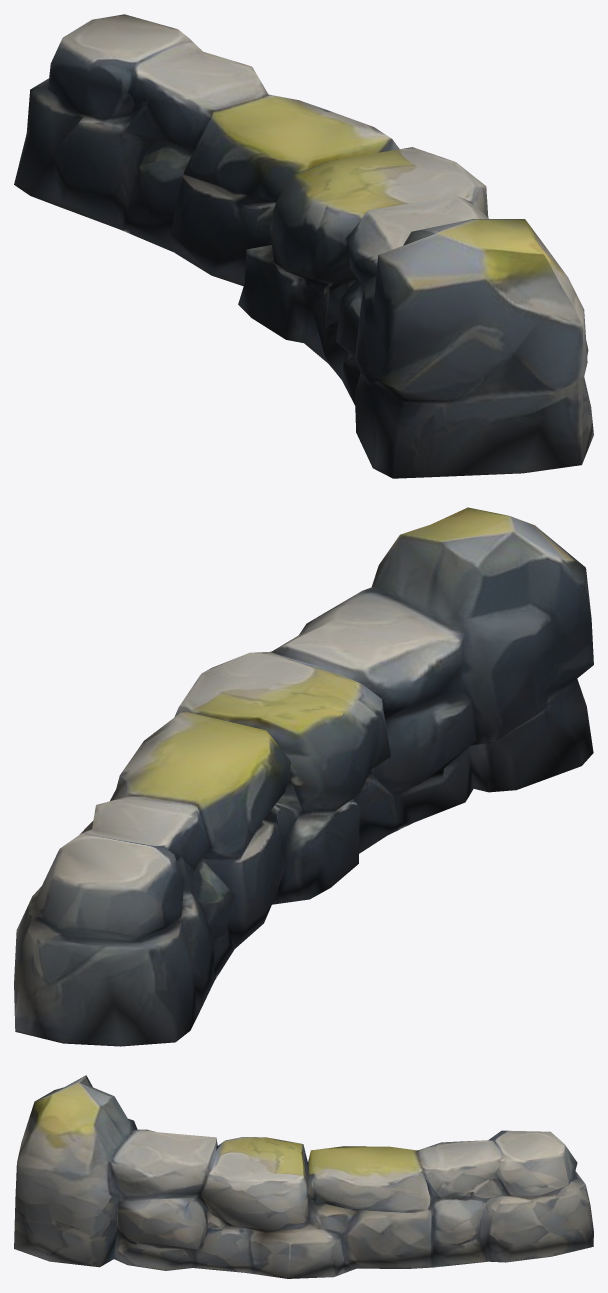
File: arena_wall_a.glb
The picture shows the model from 3 angles, top to bottom: view 1: azimuth 30°, elevation 25°; view 2: azimuth 150°, elevation 25°; view 3: azimuth 270°, elevation 25°; orthographic projection. The views are drawn at different scales.
Visible parts, largest first — view 1: tripo_node_f0398dc2-9ec6-41f7-bc73-4a444109056b; view 2: tripo_node_f0398dc2-9ec6-41f7-bc73-4a444109056b; view 3: tripo_node_f0398dc2-9ec6-41f7-bc73-4a444109056b.
Boxes of the visible parts, box(x1,y1,x2,y2) form: tripo_node_f0398dc2-9ec6-41f7-bc73-4a444109056b: box(14, 14, 593, 478); tripo_node_f0398dc2-9ec6-41f7-bc73-4a444109056b: box(14, 507, 593, 1046); tripo_node_f0398dc2-9ec6-41f7-bc73-4a444109056b: box(14, 1075, 593, 1278).
Bounding box in the file's own units: 1.25 × 1 × 3.81.
Materials: 1 (1 with a texture image).
